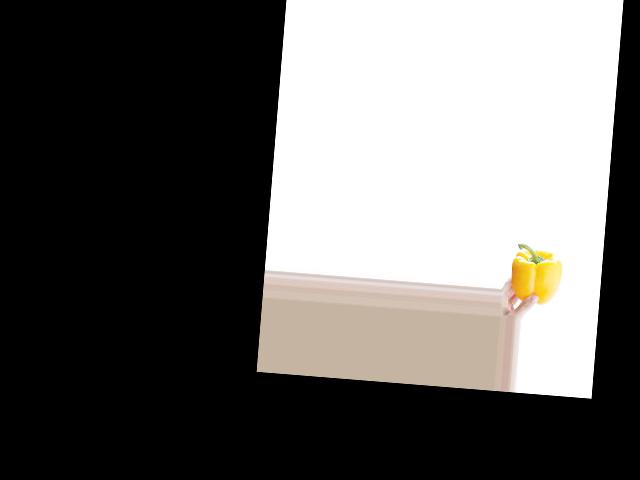bell_pepper: (509, 240, 565, 307)
